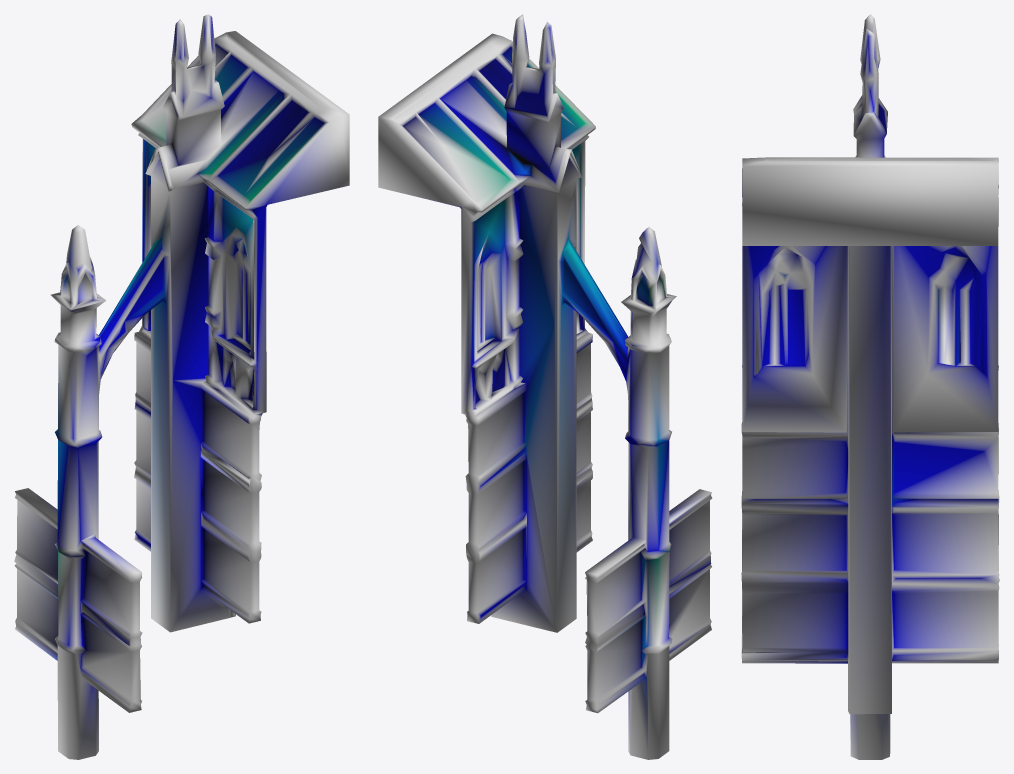
File: SM_Tower_02a.FBX
The picture shows the model from 3 angles, left to right: view 1: azimuth 30°, elevation 25°; view 2: azimuth 150°, elevation 25°; view 3: azimuth 270°, elevation 25°; orthographic projection. The views are drawn at different scales.
Parts seen in each view (by area): view 1: SMPX_Tower_02a_LOD0; view 2: SMPX_Tower_02a_LOD0; view 3: SMPX_Tower_02a_LOD0.
Part boxes in pixels (x1,y1,x2,y2): SMPX_Tower_02a_LOD0: (14,14,349,759); SMPX_Tower_02a_LOD0: (378,14,712,759); SMPX_Tower_02a_LOD0: (741,14,999,759).
Size of the model in its own units: 2852 by 2423 by 8218.
